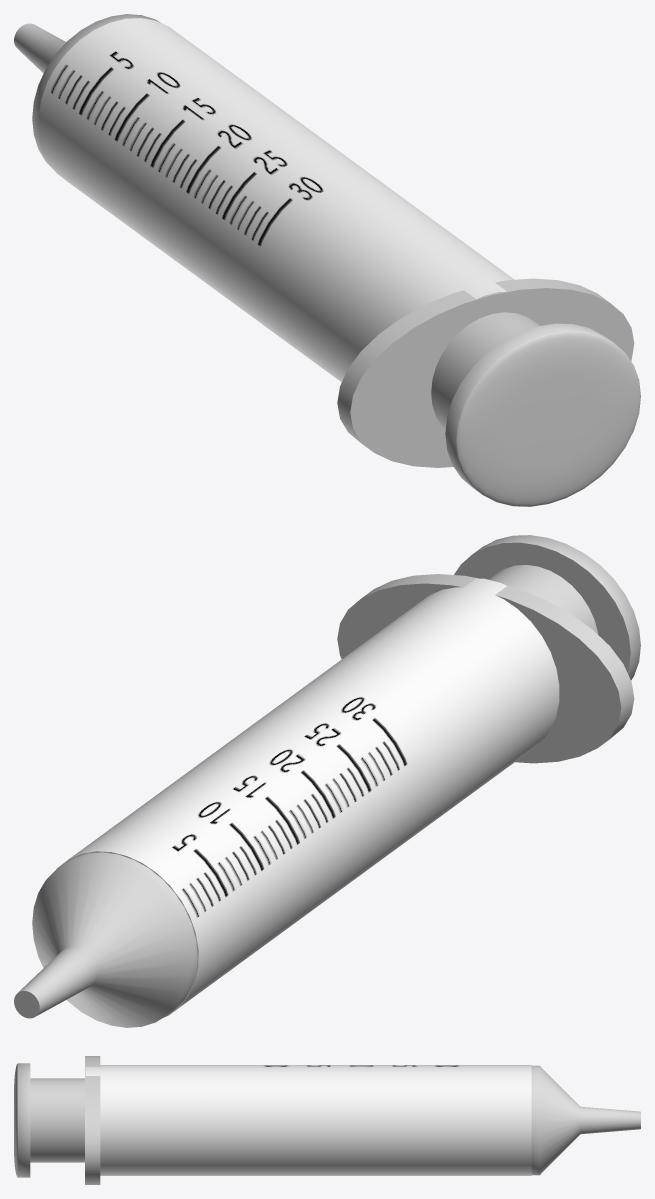
The model's file is Injection.fbx.
3 views of the same model, one above another, from view 1: azimuth 30°, elevation 25°; view 2: azimuth 150°, elevation 25°; view 3: azimuth 270°, elevation 25° (orthographic). The views are drawn at different scales.
Parts seen in each view (by area): view 1: 円柱, 円柱.003, 円柱.001, 円柱.002, 円柱.004; view 2: 円柱, 円柱.004, 円柱.001, 円柱.003, 円柱.002; view 3: 円柱, 円柱.004, 円柱.002, 円柱.001, 円柱.003.
Boxes of the visible parts, x1,y1,x2,y2 form: 円柱: (38,18,513,382); 円柱.003: (445,323,640,506); 円柱.001: (337,278,634,467); 円柱.002: (431,312,540,429); 円柱.004: (14,14,160,170); 円柱: (56,578,559,1017); 円柱.004: (14,852,197,1027); 円柱.001: (337,574,634,763); 円柱.003: (454,535,640,680); 円柱.002: (488,565,598,634); 円柱: (85,1065,531,1175); 円柱.004: (531,1065,640,1175); 円柱.002: (30,1078,84,1162); 円柱.001: (85,1056,100,1184); 円柱.003: (14,1063,30,1177).
Bounding box in the file's own units: 0.8343 × 0.4779 × 2.67.
2 materials, 1 textured.
